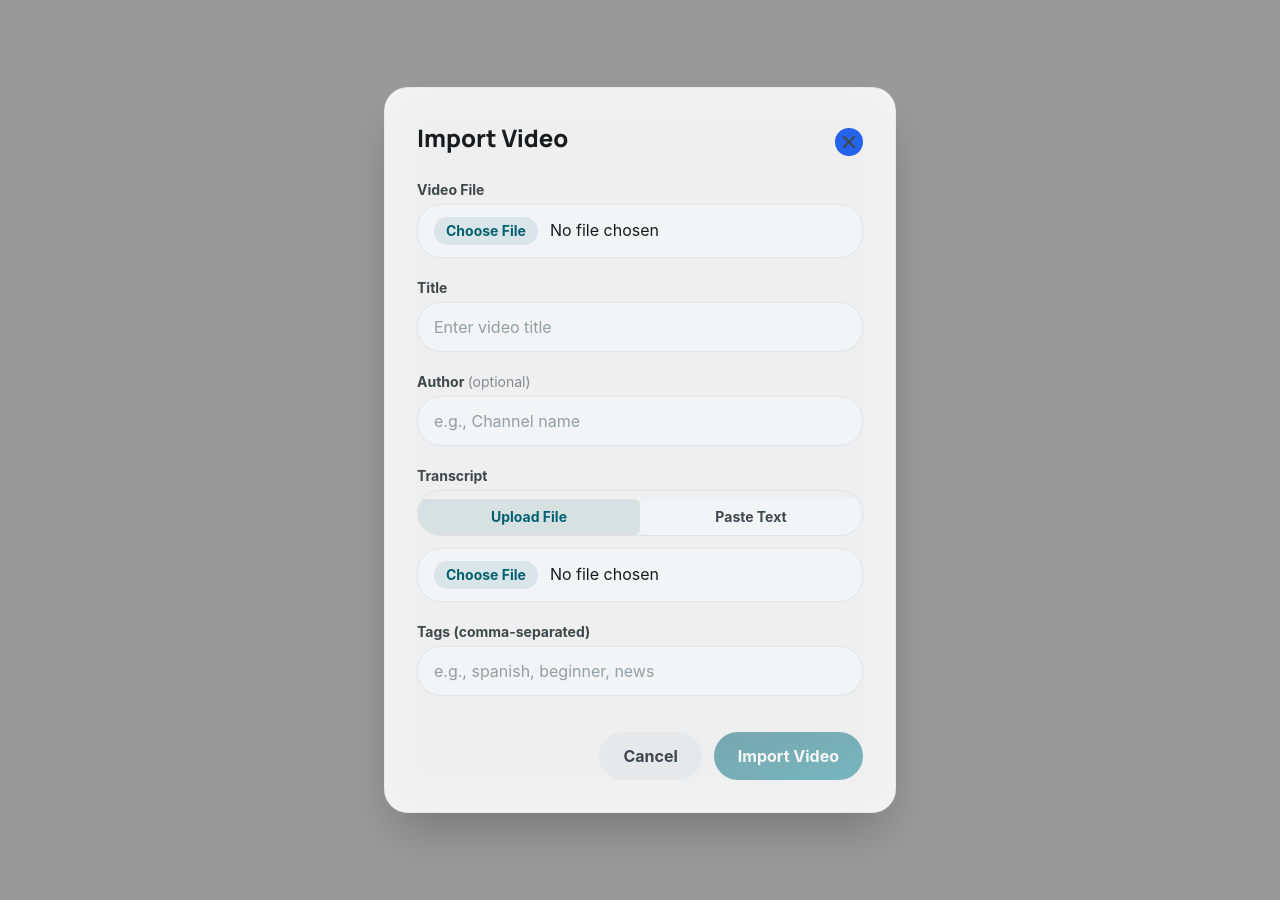
Test: ImportVideoModal › switches to paste mode showing textarea and hiding file input
What coordinates should you click on to do the following:
click the button with test id "transcript-mode-paste"
I would click on:
 (751, 517)
Its box is [640, 499, 862, 535].
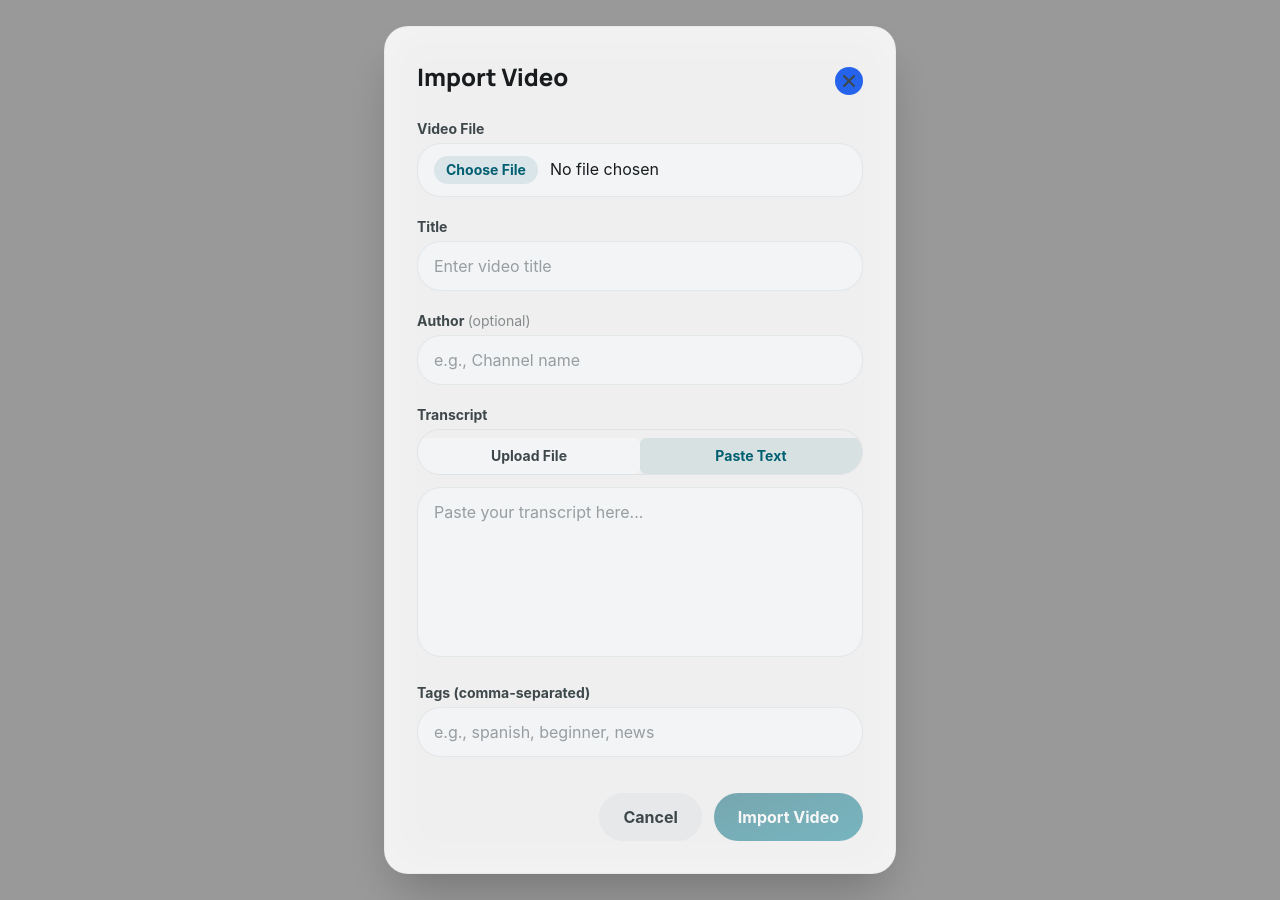
Check: the text box with test id "transcript-paste-input" is shown, box [417, 487, 863, 657]
Check: the file field with test id "transcript-input" is gone
